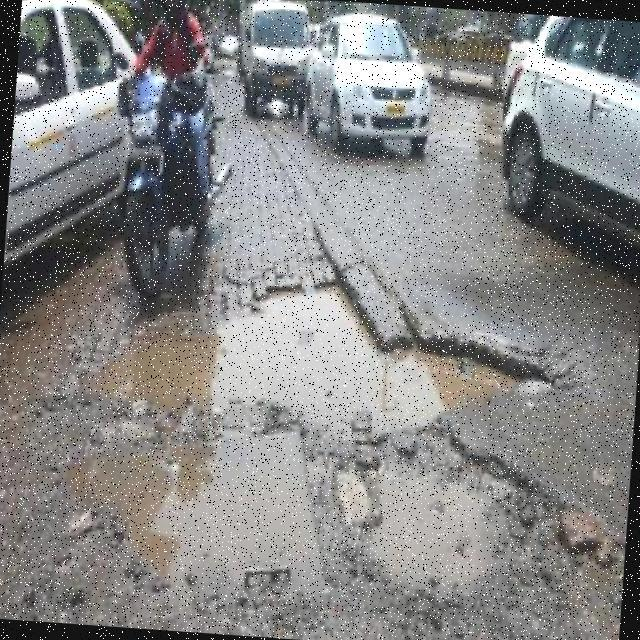Pothole: (78, 289, 552, 427), (66, 430, 323, 610), (335, 469, 514, 590)
